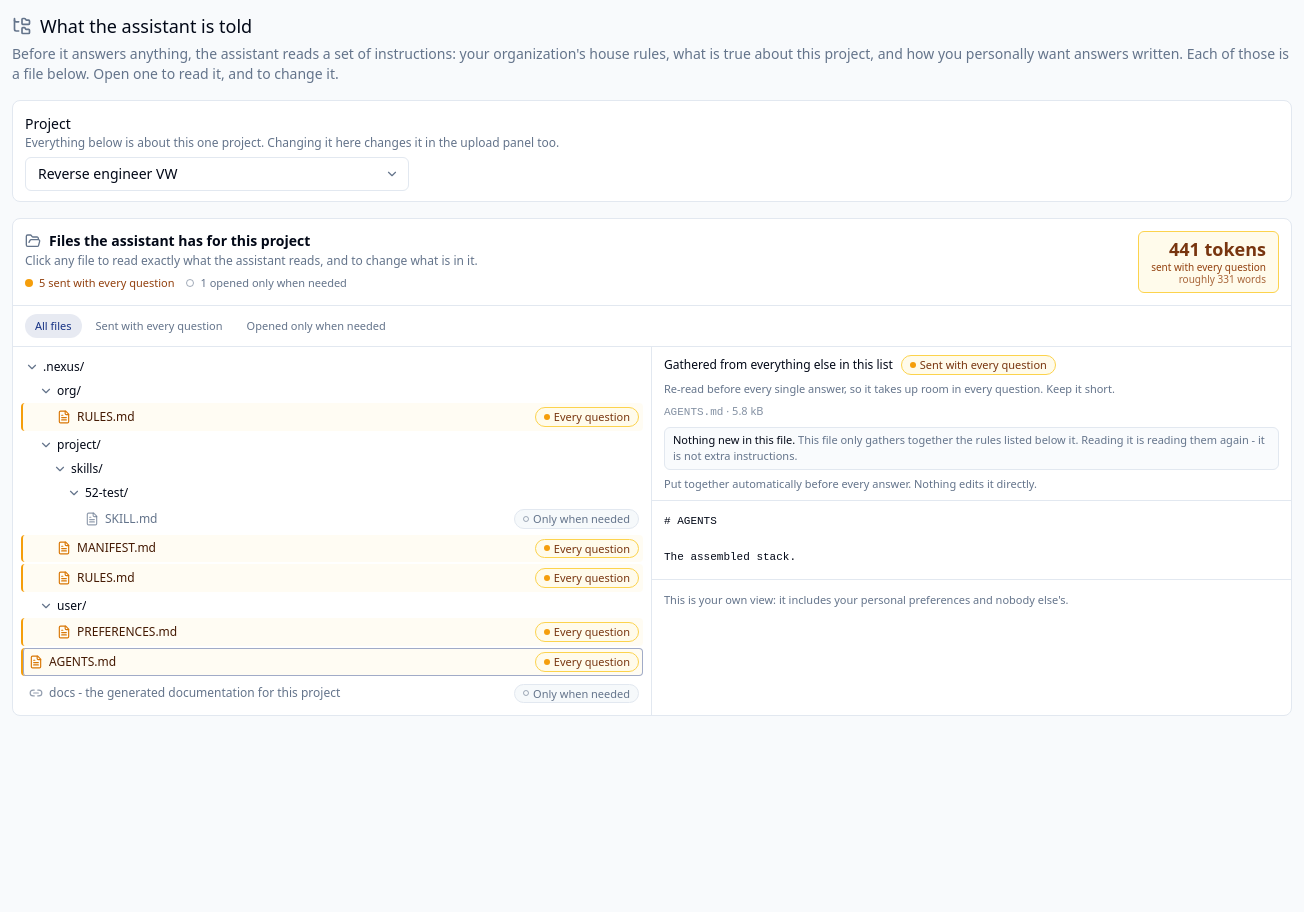
Test: ProjectStructurePanel › lists the uploaded material, and what each file became, on the index
Click the button "MANIFEST.md Every question": (116, 548) [21, 534, 643, 562]
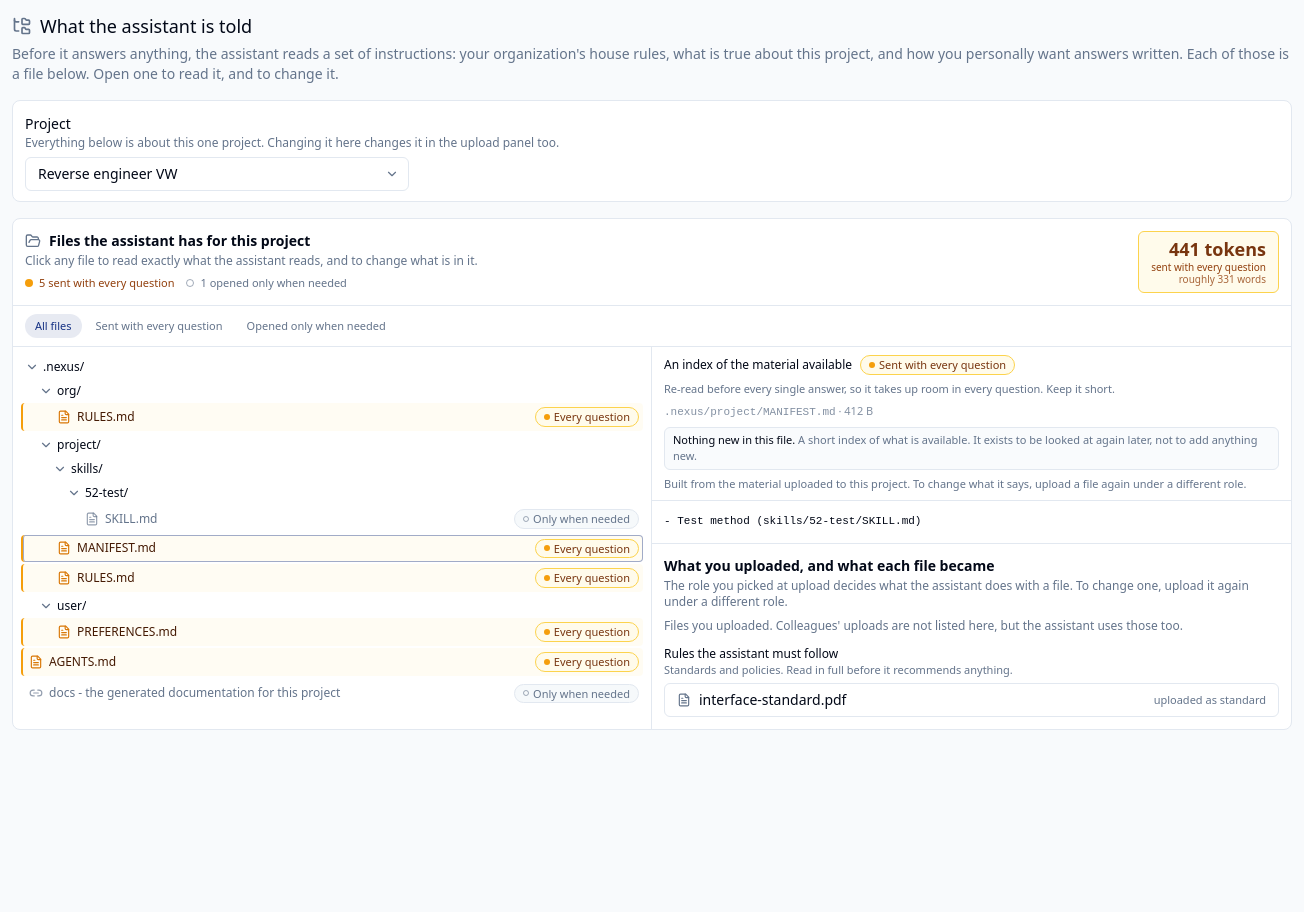
Now the text "interface-standard.pdf" is shown, box [699, 690, 846, 709]
Now the text "Rules the assistant must follow" is shown, box [664, 645, 838, 662]
Now the text "uploaded as standard" is shown, box [1154, 690, 1266, 710]
